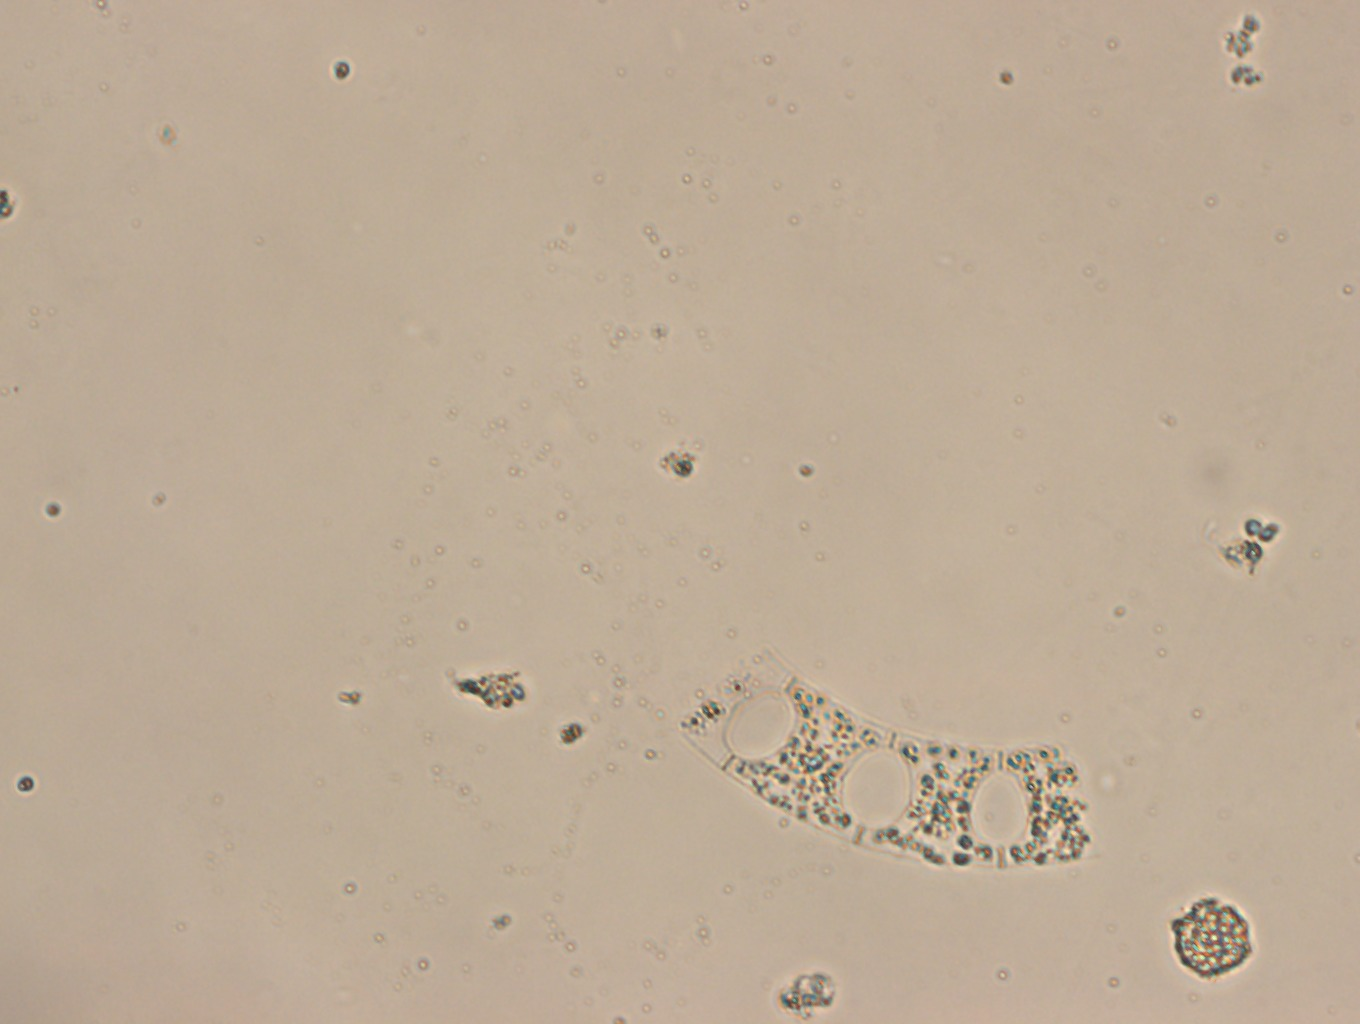eucampia: (669, 636, 1104, 878)
